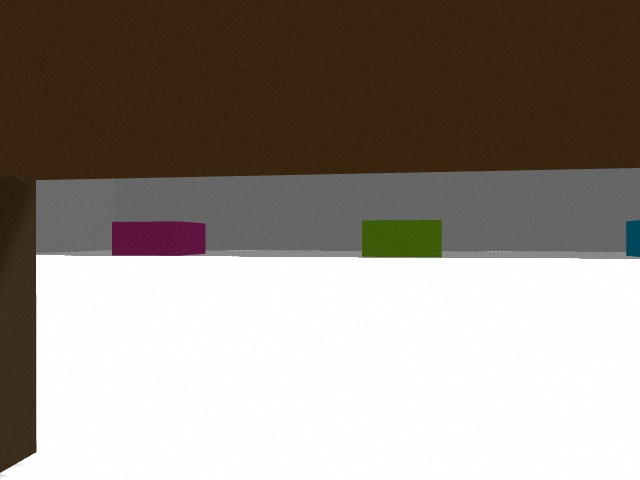blue_drop_zone: (626, 220, 640, 257)
green_drop_zone: (362, 220, 442, 257)
red_drop_zone: (112, 221, 206, 256)
